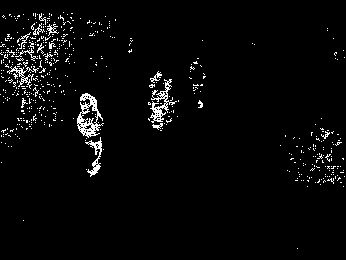person: (75, 91, 109, 178)
